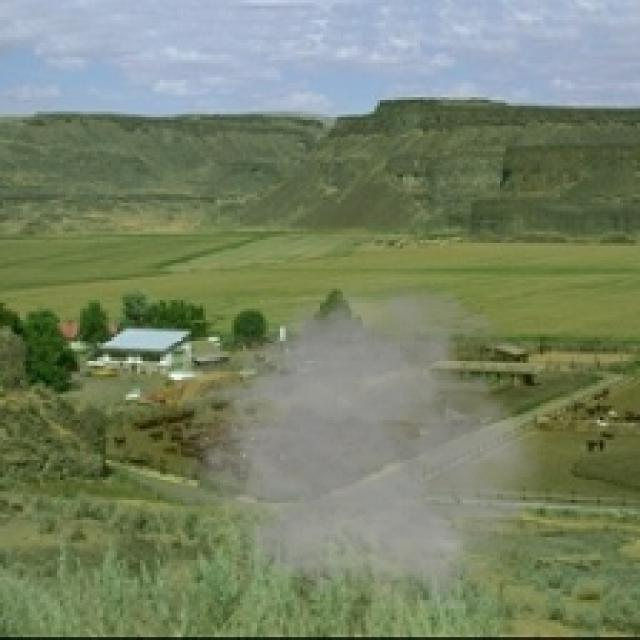smoke: (166, 254, 554, 609)
